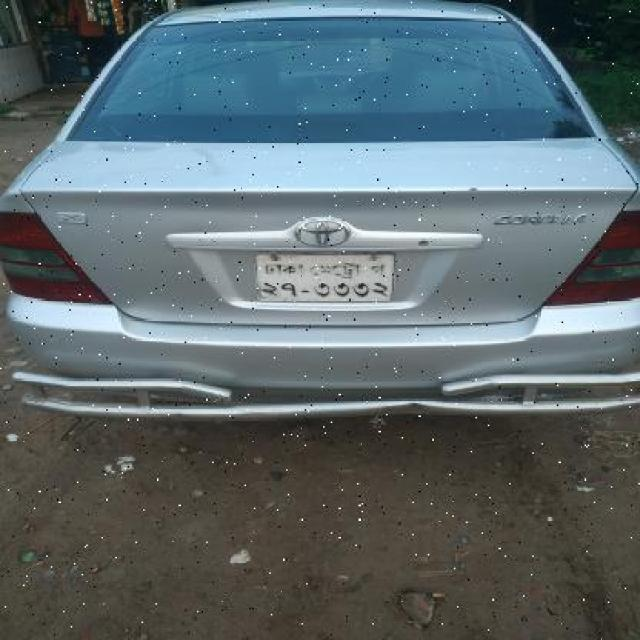numberplate: (252, 250, 394, 302)
